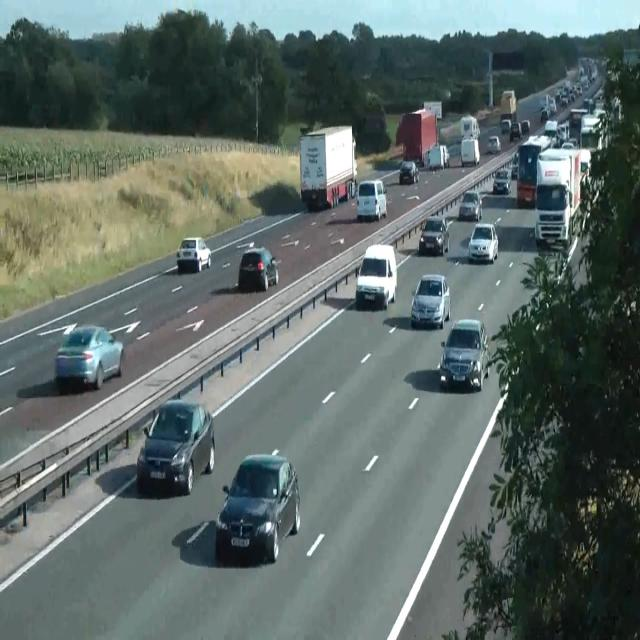bus: (215, 449, 301, 563), (54, 323, 124, 392), (238, 246, 279, 291), (176, 236, 211, 272), (418, 215, 449, 255), (458, 190, 482, 222), (493, 167, 511, 195), (398, 160, 418, 184), (487, 134, 501, 154), (544, 120, 558, 139), (500, 118, 511, 134), (442, 146, 450, 167), (521, 119, 529, 133)
jeep: (136, 397, 215, 495), (438, 317, 489, 391), (355, 242, 397, 308), (410, 273, 450, 329), (356, 178, 386, 220), (468, 222, 498, 262), (509, 121, 521, 141)
minibus: (534, 147, 592, 250), (300, 124, 358, 210), (516, 133, 552, 208), (396, 108, 438, 166), (426, 144, 450, 170), (460, 138, 480, 166), (460, 114, 480, 140), (422, 101, 442, 119)
